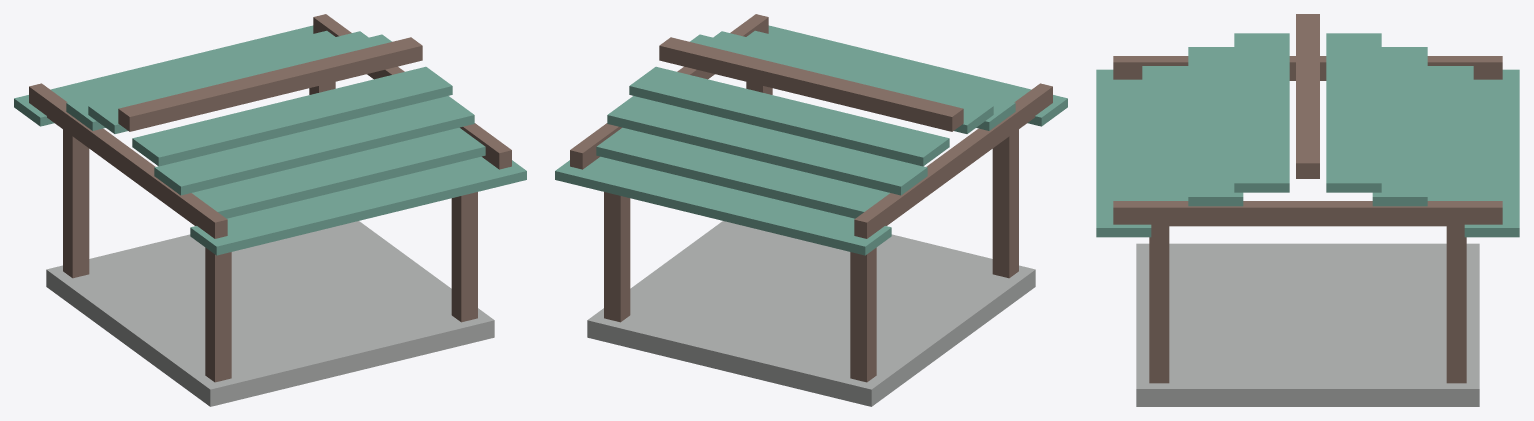
File: open_pavilion_6m.glb
3 renders of one model, left to right at view 1: azimuth 30°, elevation 25°; view 2: azimuth 150°, elevation 25°; view 3: azimuth 270°, elevation 25°, orthographic. The views are drawn at different scales.
Parts seen in each view (by area): view 1: roof_jade, stone, wood_dark; view 2: roof_jade, stone, wood_dark; view 3: roof_jade, stone, wood_dark.
Part boxes in pixels (bbox=[...]): roof_jade: bbox=[14, 25, 526, 255]; stone: bbox=[46, 221, 494, 406]; wood_dark: bbox=[29, 14, 511, 382]; roof_jade: bbox=[555, 25, 1067, 255]; stone: bbox=[587, 221, 1035, 406]; wood_dark: bbox=[570, 14, 1052, 382]; roof_jade: bbox=[1096, 33, 1519, 237]; stone: bbox=[1136, 243, 1479, 406]; wood_dark: bbox=[1113, 14, 1502, 383].
Size of the model in its own units: 6.55 by 4.74 by 7.41.
